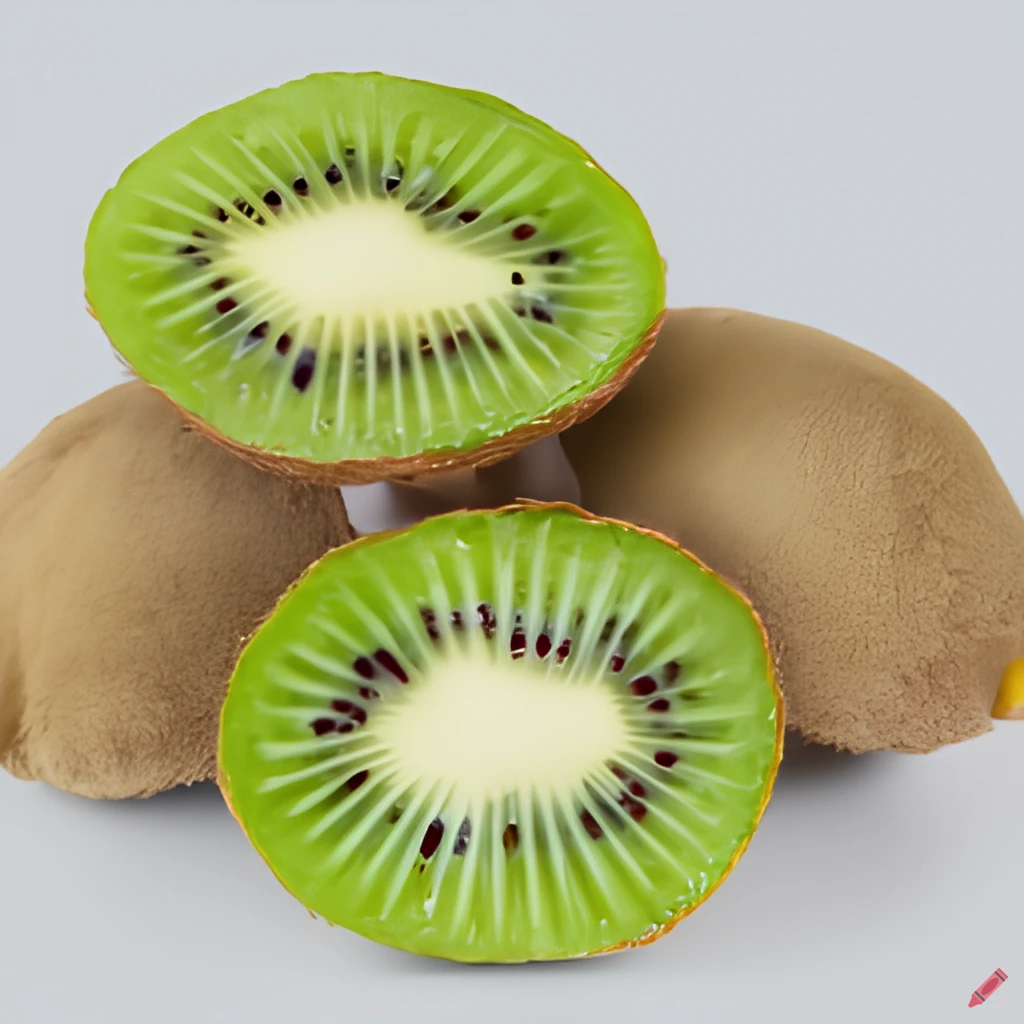Kiwi: (177, 475, 786, 990)
